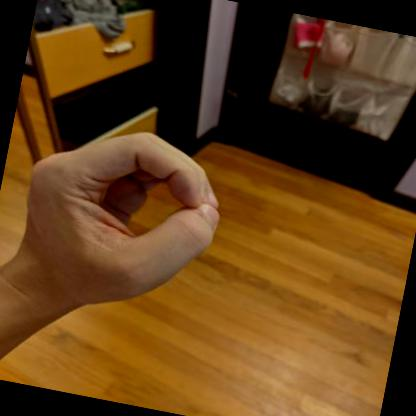O: (1, 132, 219, 308)
